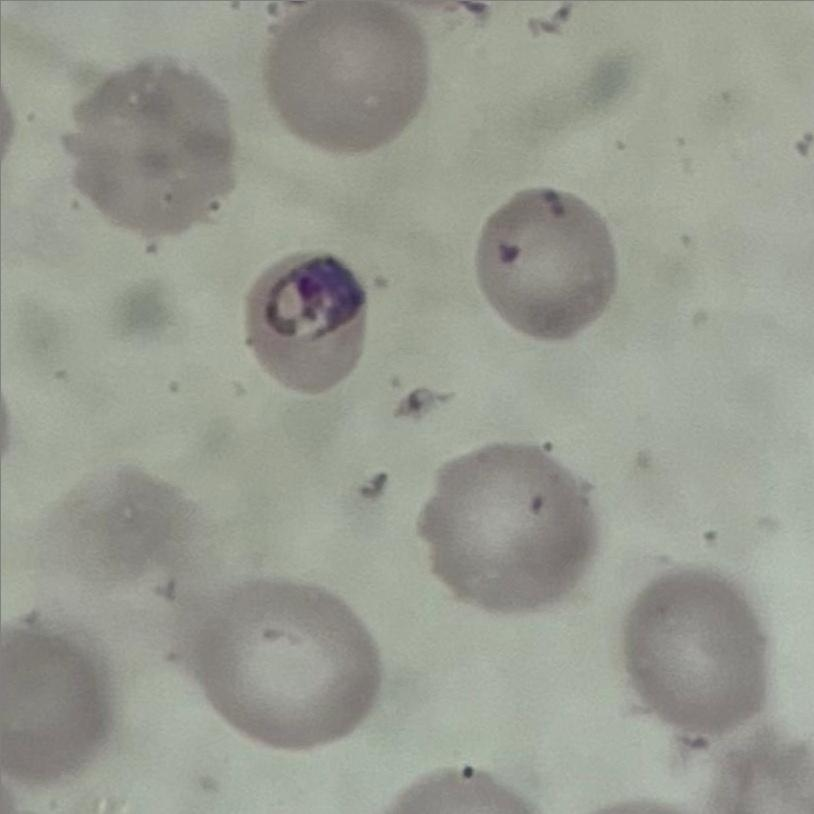Infected: (242, 254, 370, 395)
Uninfected: (187, 582, 382, 749), (62, 57, 238, 231), (415, 444, 597, 608), (258, 0, 429, 155), (617, 574, 771, 734), (472, 189, 613, 341), (0, 630, 106, 782)
